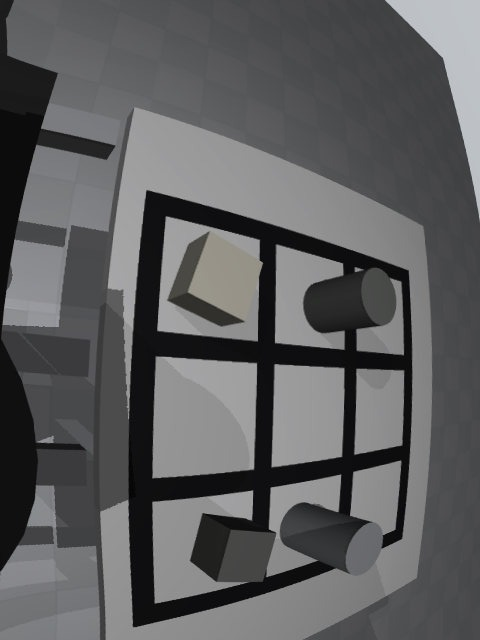can: (280, 502, 383, 576)
cube: (190, 513, 277, 582)
cylinder: (303, 268, 397, 333)
foam: (167, 231, 263, 326)
